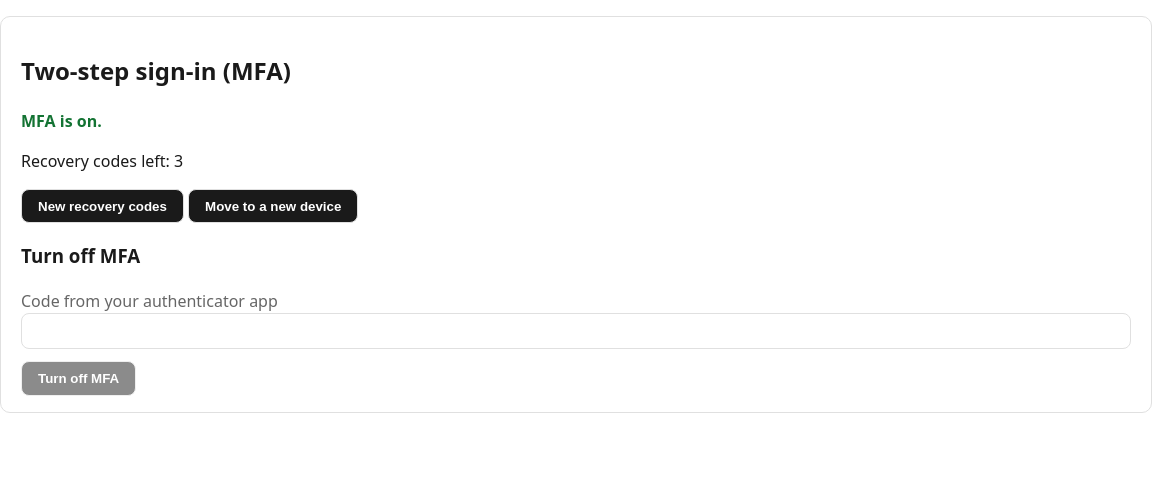
Scenario: MFA on › shows a failure it cannot read as a generic error
Click the button "New recovery codes". click: {"x": 102, "y": 206}
box: [21, 189, 184, 223]
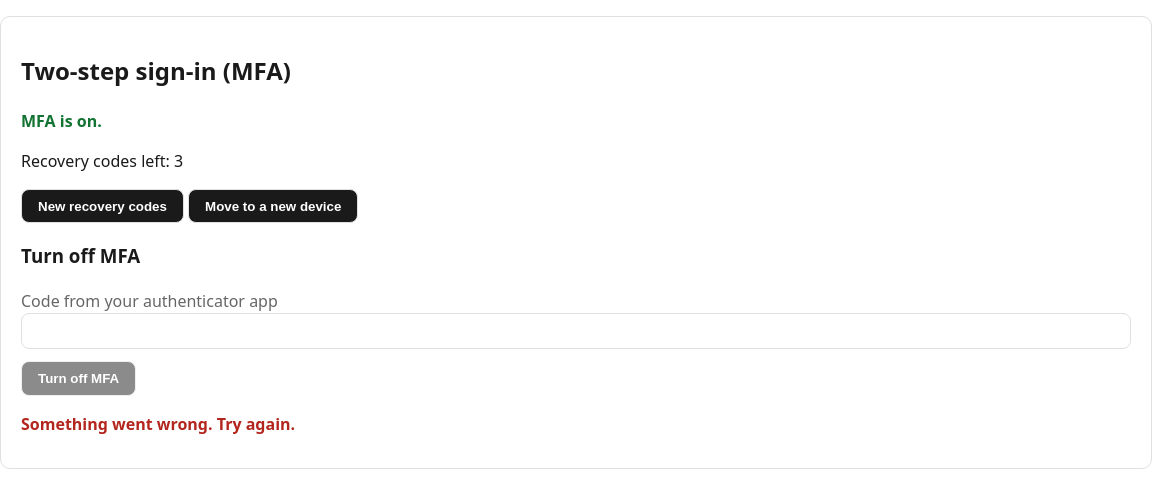
expect the message reads "Something went wrong. Try again.": met, box [21, 413, 295, 435]
